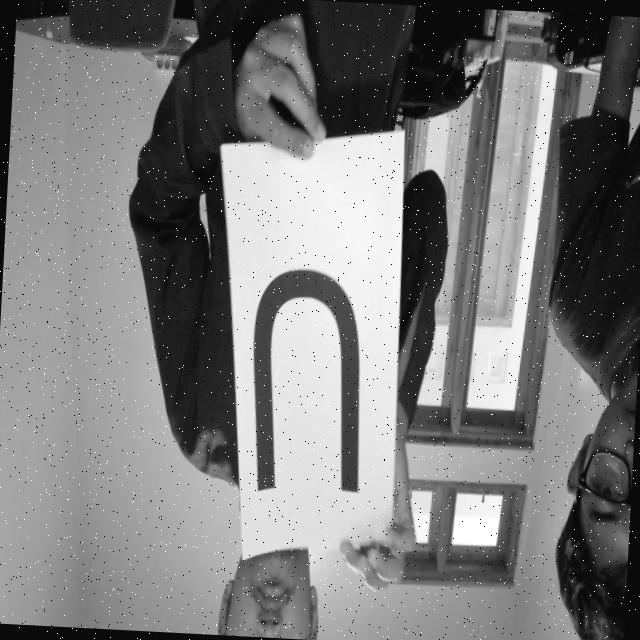u: (222, 240, 382, 511)
